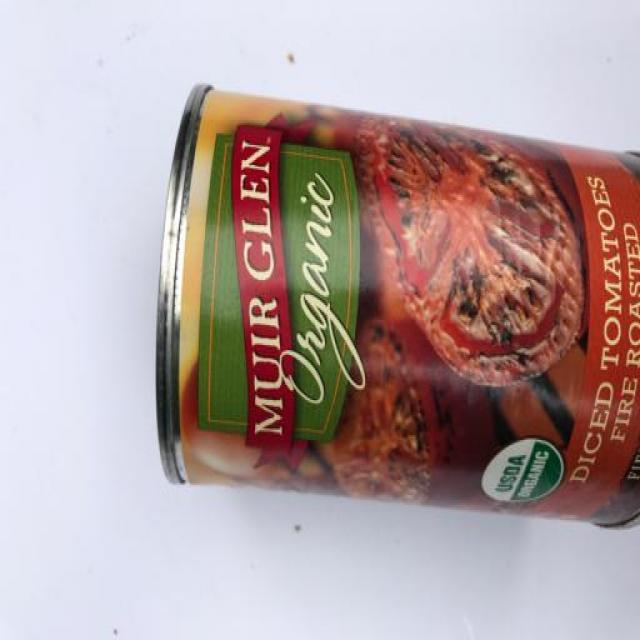metel: (150, 59, 640, 541)
